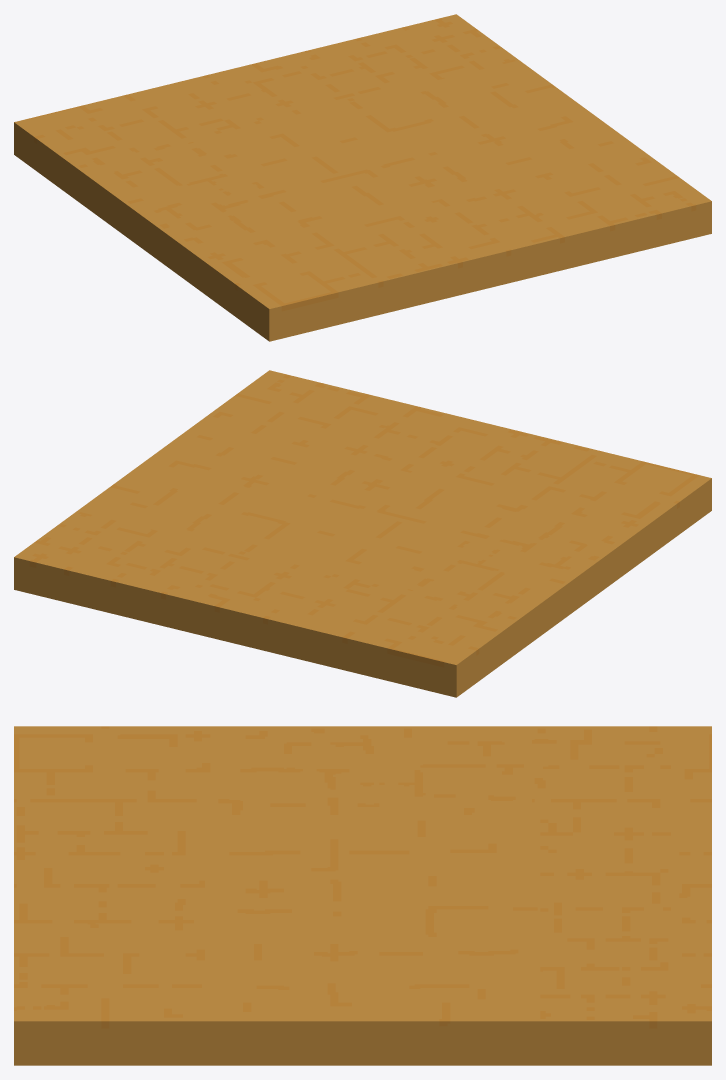
Rendered from dirt.fbx.
The picture shows the model from 3 angles, top to bottom: view 1: azimuth 30°, elevation 25°; view 2: azimuth 150°, elevation 25°; view 3: azimuth 270°, elevation 25°; orthographic projection. The views are drawn at different scales.
Parts seen in each view (by area): view 1: ObjObject; view 2: ObjObject; view 3: ObjObject.
Part boxes in pixels (x1,y1,x2,y2): ObjObject: (14,14,711,341); ObjObject: (14,370,711,697); ObjObject: (14,726,711,1065).
Bounding box in the file's own units: 2560 × 190 × 2560.
1 material, 1 textured.
